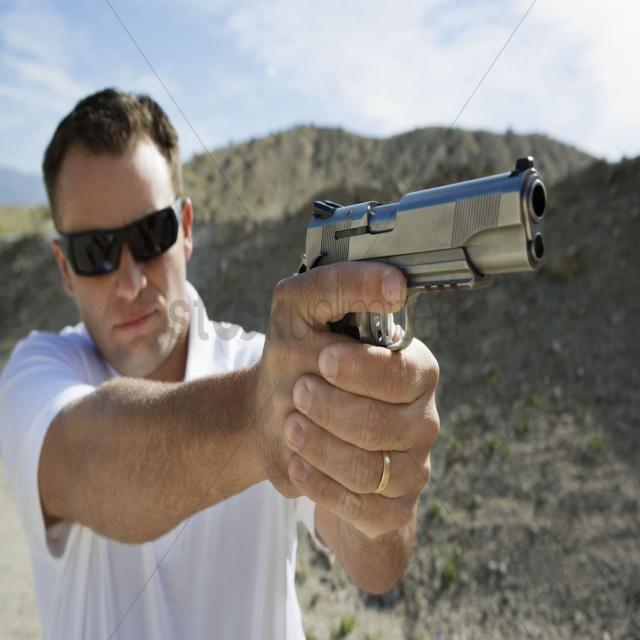gun: (302, 153, 548, 350)
